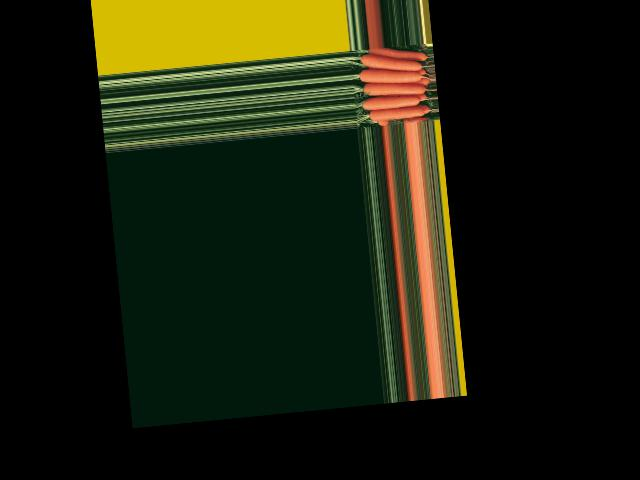carrot: (366, 43, 426, 67)
